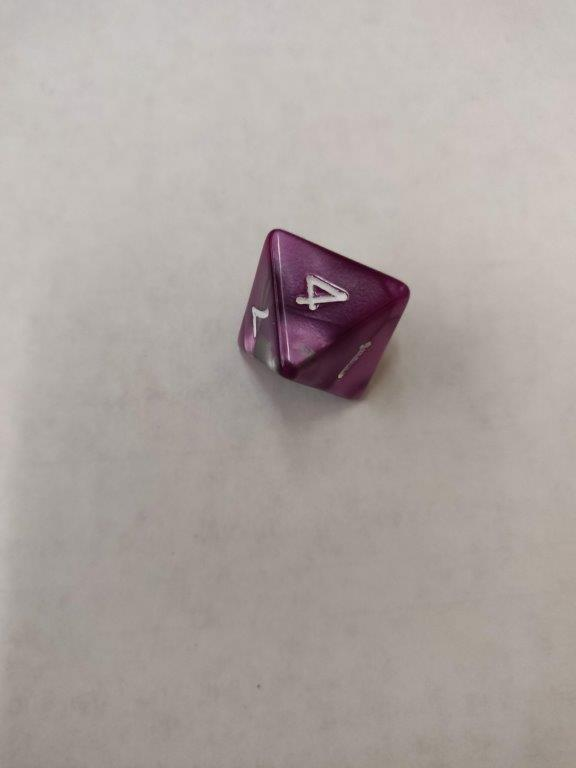d8-4: (235, 226, 412, 406)
